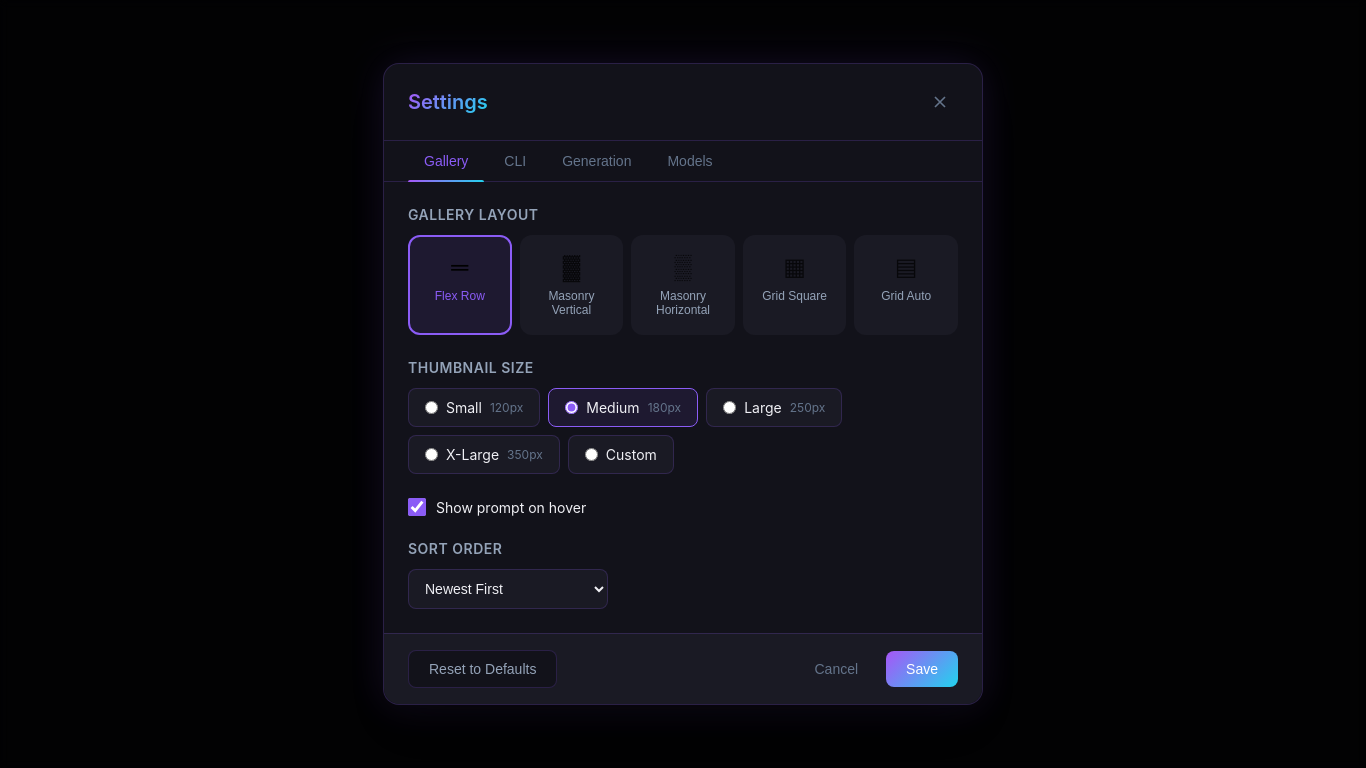
Test: Settings Dialog › Tab Navigation › switches to CLI tab when clicked
The image size is (1366, 768).
Click the tab "CLI" at (515, 161), box [488, 141, 542, 181]
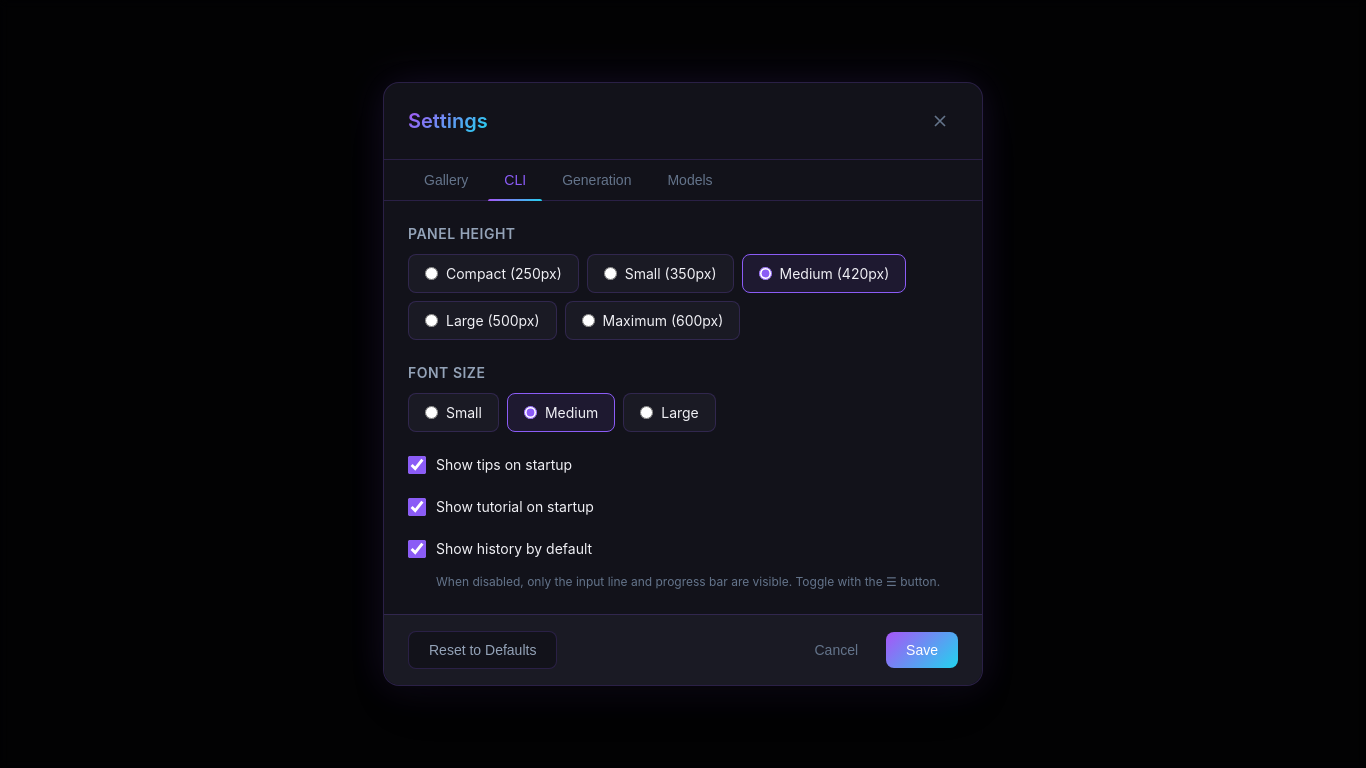
Result: the heading "Font Size" is shown at [408, 364, 486, 381]
